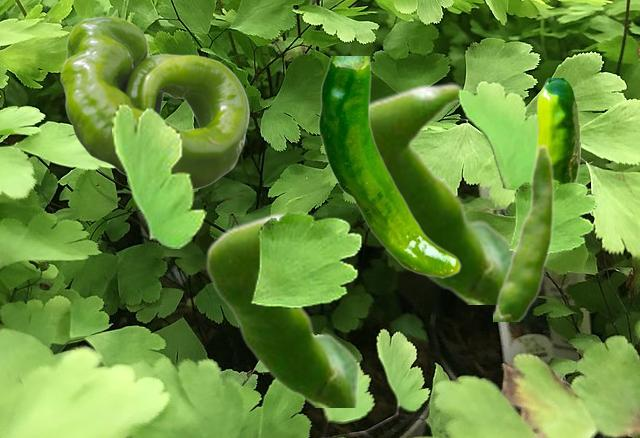green_chili: (60, 16, 248, 189), (318, 56, 460, 277), (371, 82, 511, 303), (205, 211, 357, 406), (493, 143, 554, 320), (534, 78, 579, 183)
